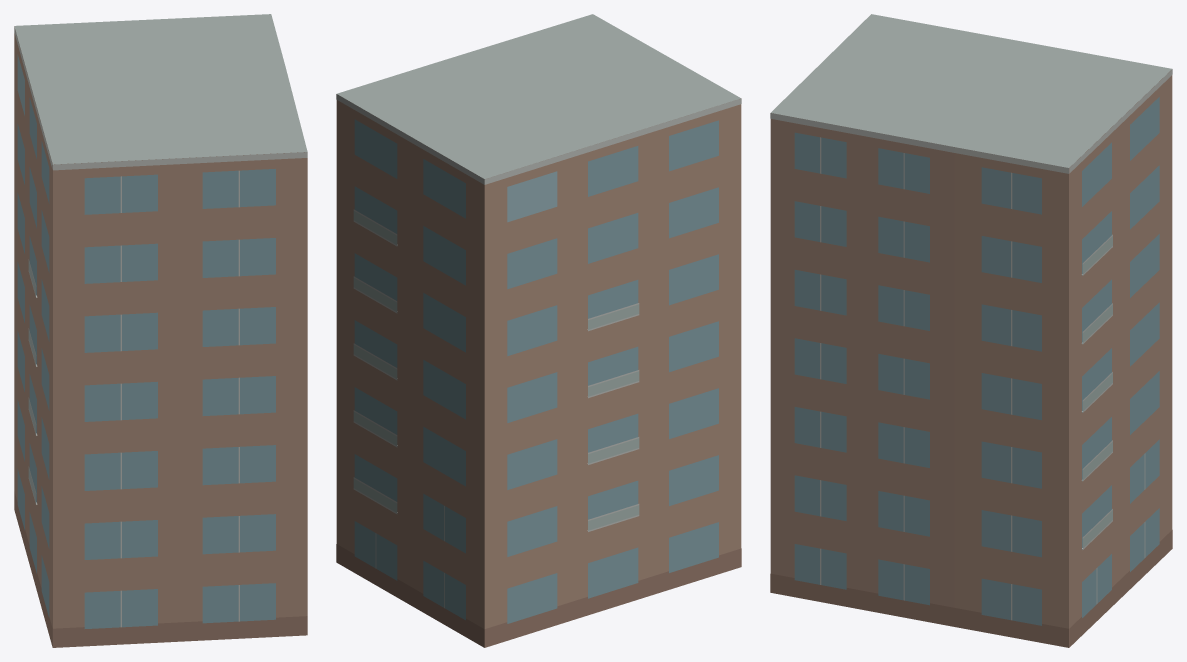
The model's file is survey-upis-33014108.glb.
3 renders of one model, left to right at view 1: azimuth 30°, elevation 25°; view 2: azimuth 150°, elevation 25°; view 3: azimuth 270°, elevation 25°, orthographic. The views are drawn at different scales.
Parts seen in each view (by area): view 1: survey-upis-33014108.tmp; view 2: survey-upis-33014108.tmp; view 3: survey-upis-33014108.tmp.
Part boxes in pixels (<box>): survey-upis-33014108.tmp: <box>14,14,307,647</box>; survey-upis-33014108.tmp: <box>336,14,741,647</box>; survey-upis-33014108.tmp: <box>770,14,1172,647</box>.
Bounding box in the file's own units: 13.71 × 19.9 × 15.12.
